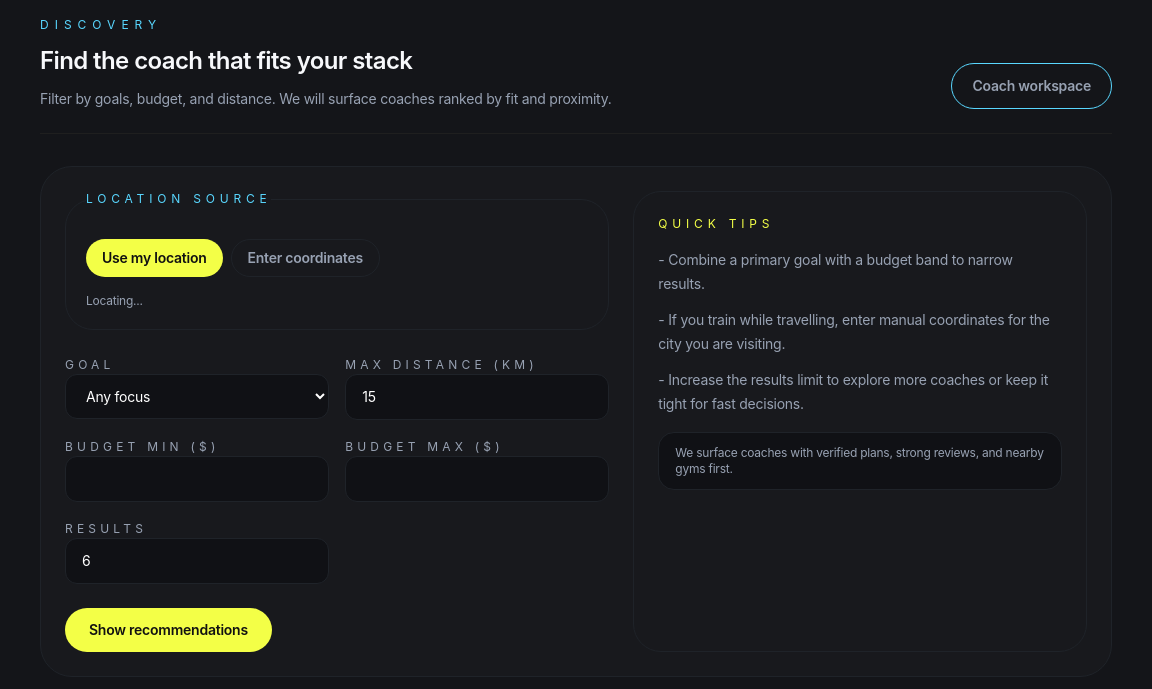
Scenario: RecommendationsPage › shows error when no location is available in auto mode
Click the button "Show recommendations" at (168, 630), box [65,608,272,652]
(page scrolled)
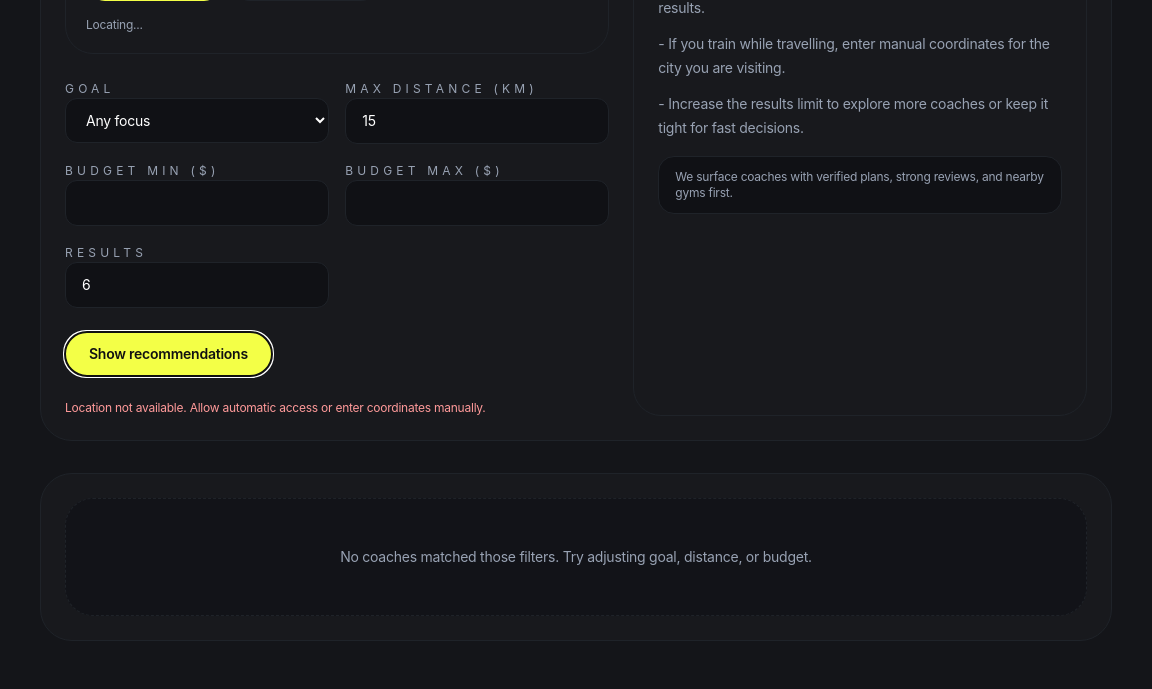
Expected: the text "Location not available. Allow automatic access or enter coordinates manually." is shown, [65,400,486,415]
